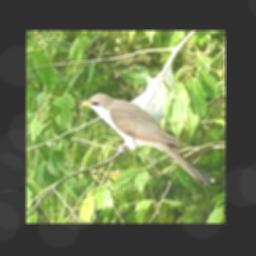Cuckoo: (76, 93, 210, 187)
